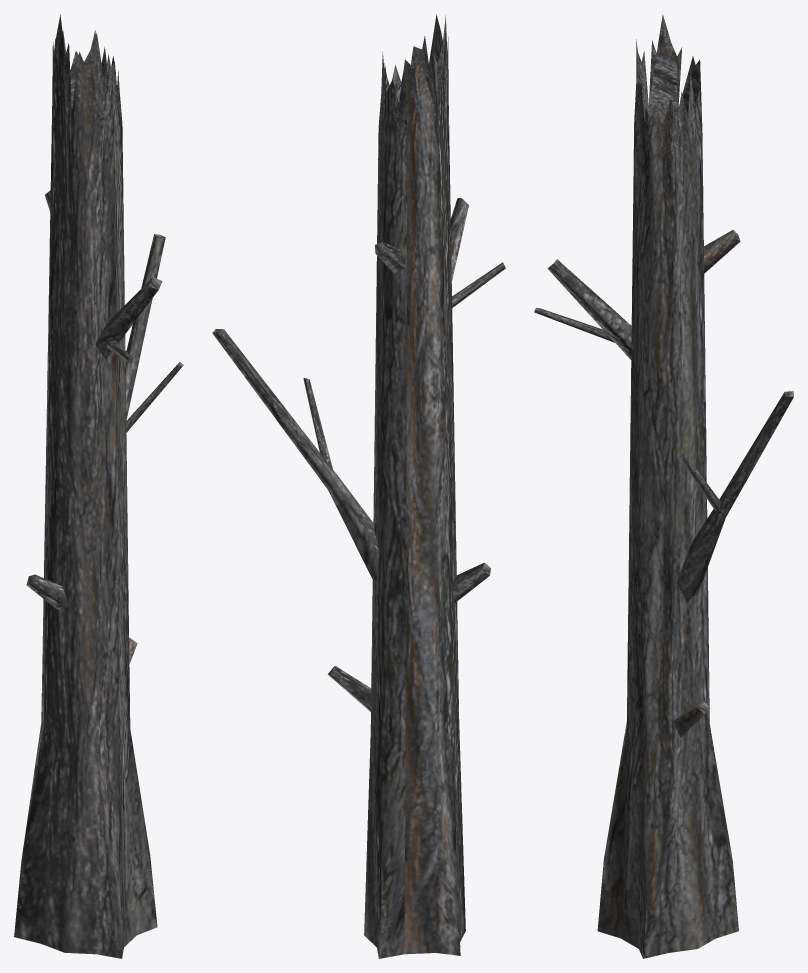
Rendered from SC_bingfengyiji_08.FBX.
The picture shows the model from 3 angles, left to right: view 1: azimuth 30°, elevation 25°; view 2: azimuth 150°, elevation 25°; view 3: azimuth 270°, elevation 25°; orthographic projection. The views are drawn at different scales.
Parts seen in each view (by area): view 1: SC_bingfengyiji_08; view 2: SC_bingfengyiji_08; view 3: SC_bingfengyiji_08.
Boxes of the visible parts, bbox=[...] form: SC_bingfengyiji_08: bbox=[14, 14, 183, 958]; SC_bingfengyiji_08: bbox=[212, 14, 505, 958]; SC_bingfengyiji_08: bbox=[534, 14, 793, 958].
Size of the model in its own units: 110 by 470 by 122.
